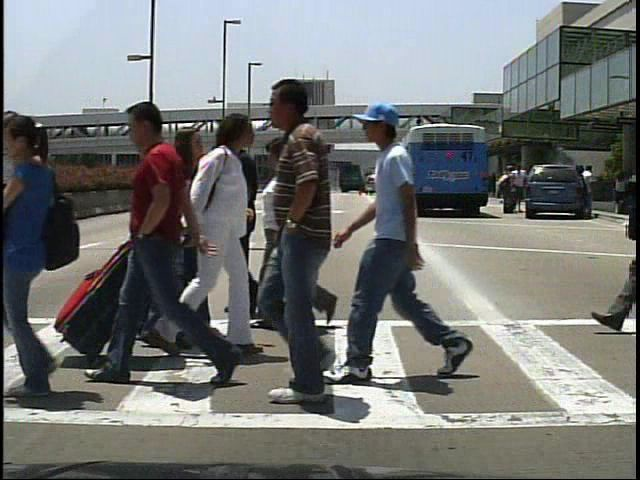person: (246, 84, 385, 425), (147, 111, 273, 367), (113, 91, 217, 388), (365, 103, 459, 383), (118, 122, 206, 344), (250, 135, 329, 332), (211, 126, 283, 322), (154, 119, 211, 362), (149, 189, 191, 322), (582, 164, 602, 218), (498, 166, 516, 219), (512, 165, 528, 215)
